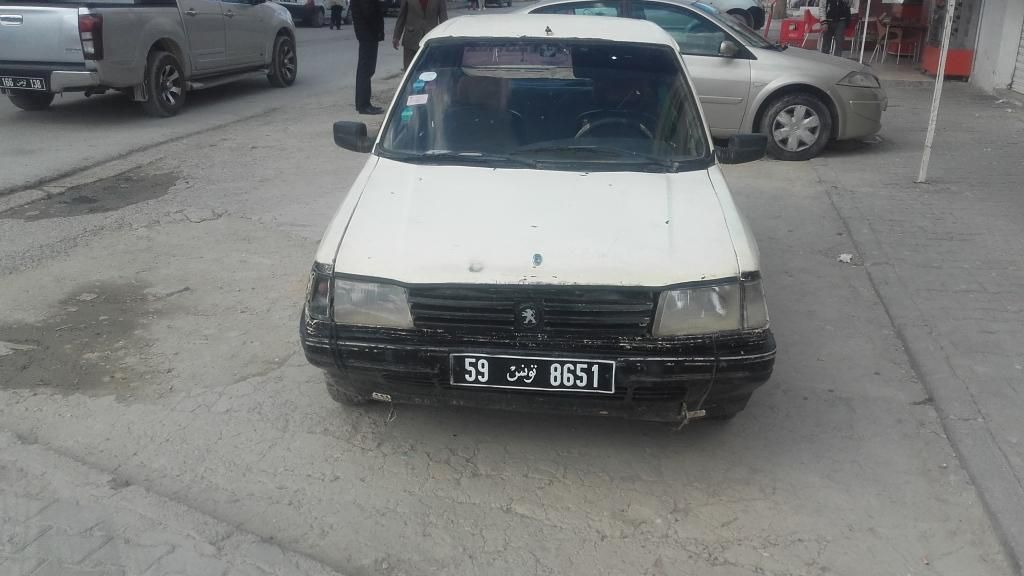LP: (449, 353, 616, 396)
